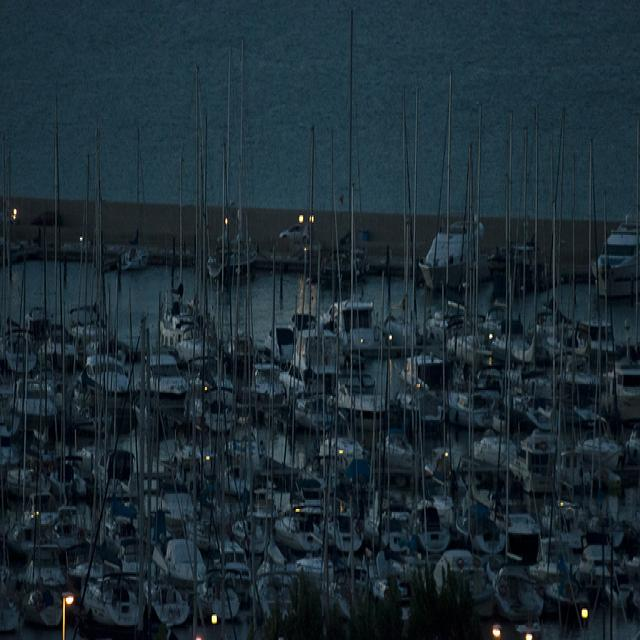Vehicle: (278, 222, 315, 246), (339, 228, 391, 243)
